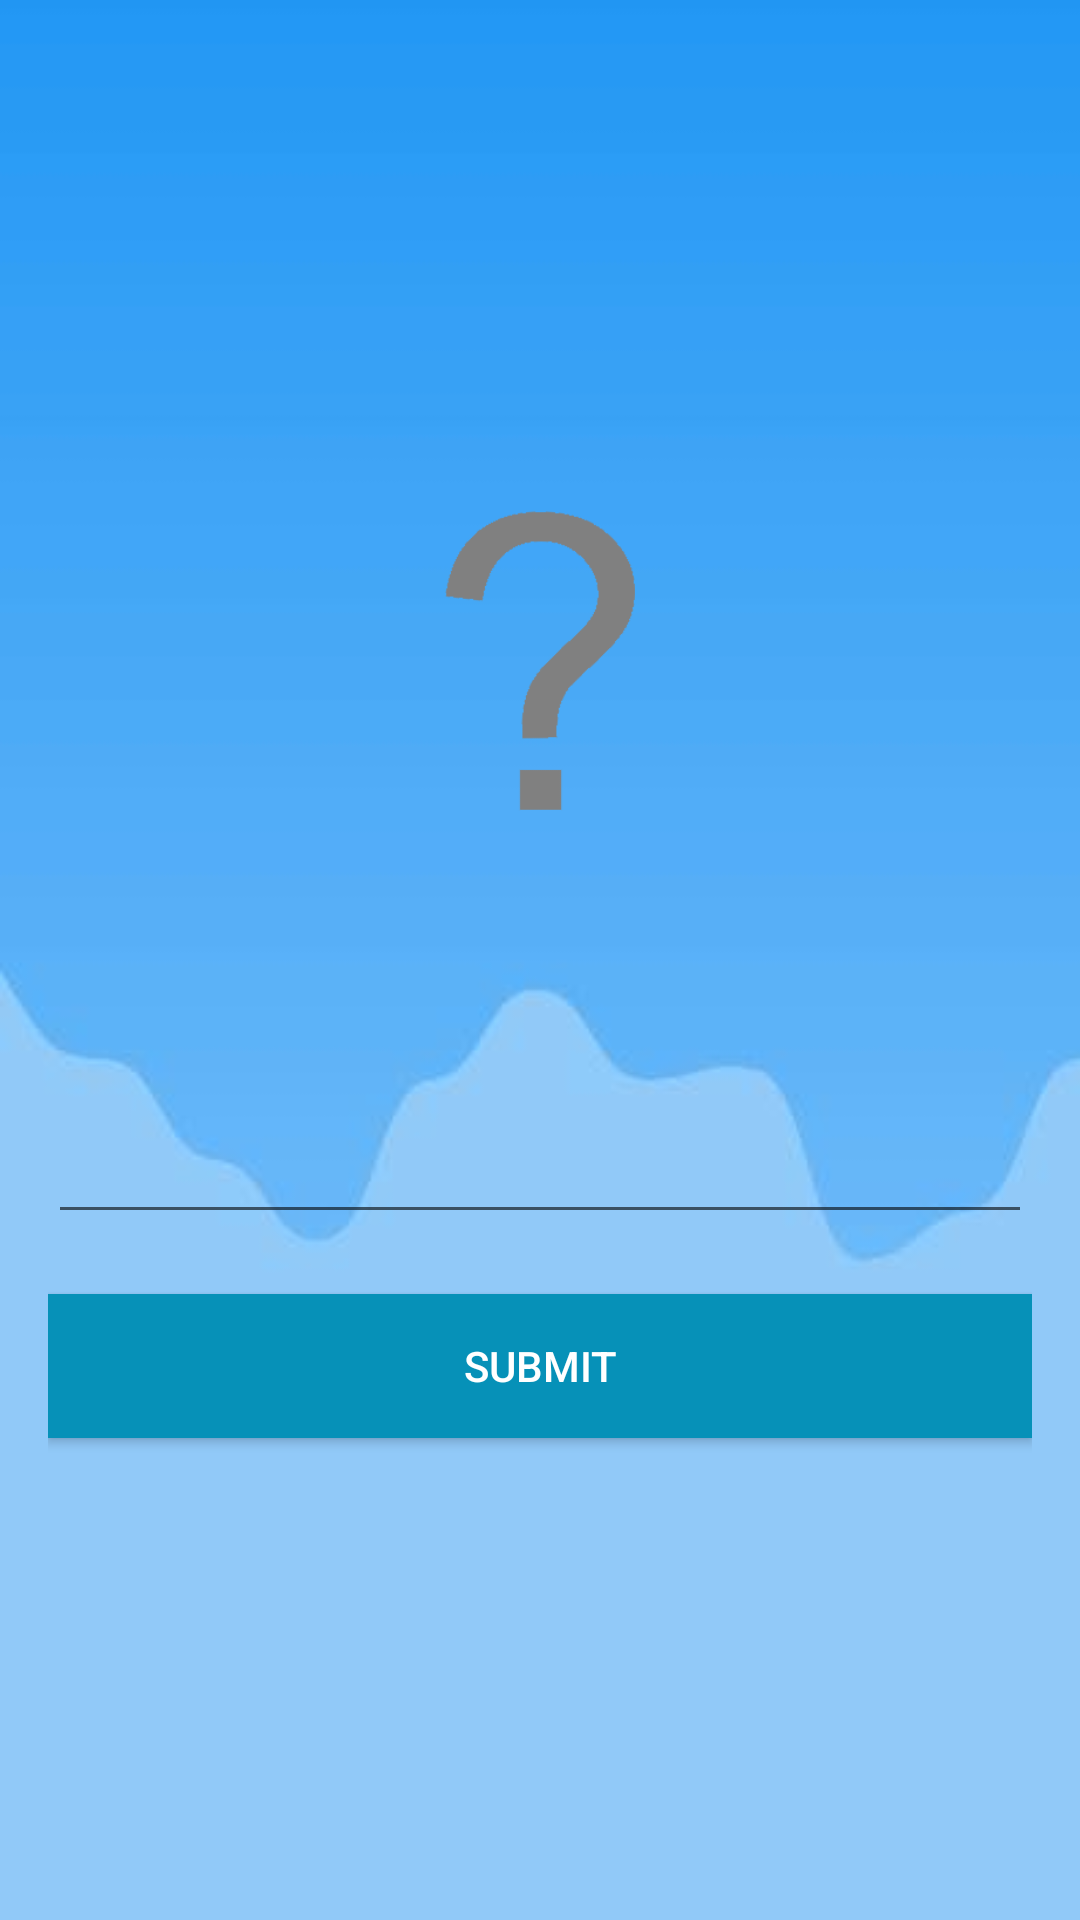

Icon bounding boxes for this 1080×1920 phone screenshot, format (x1, y1, x2, y2):
qmarkfgtpassword: (445, 511, 635, 810)
